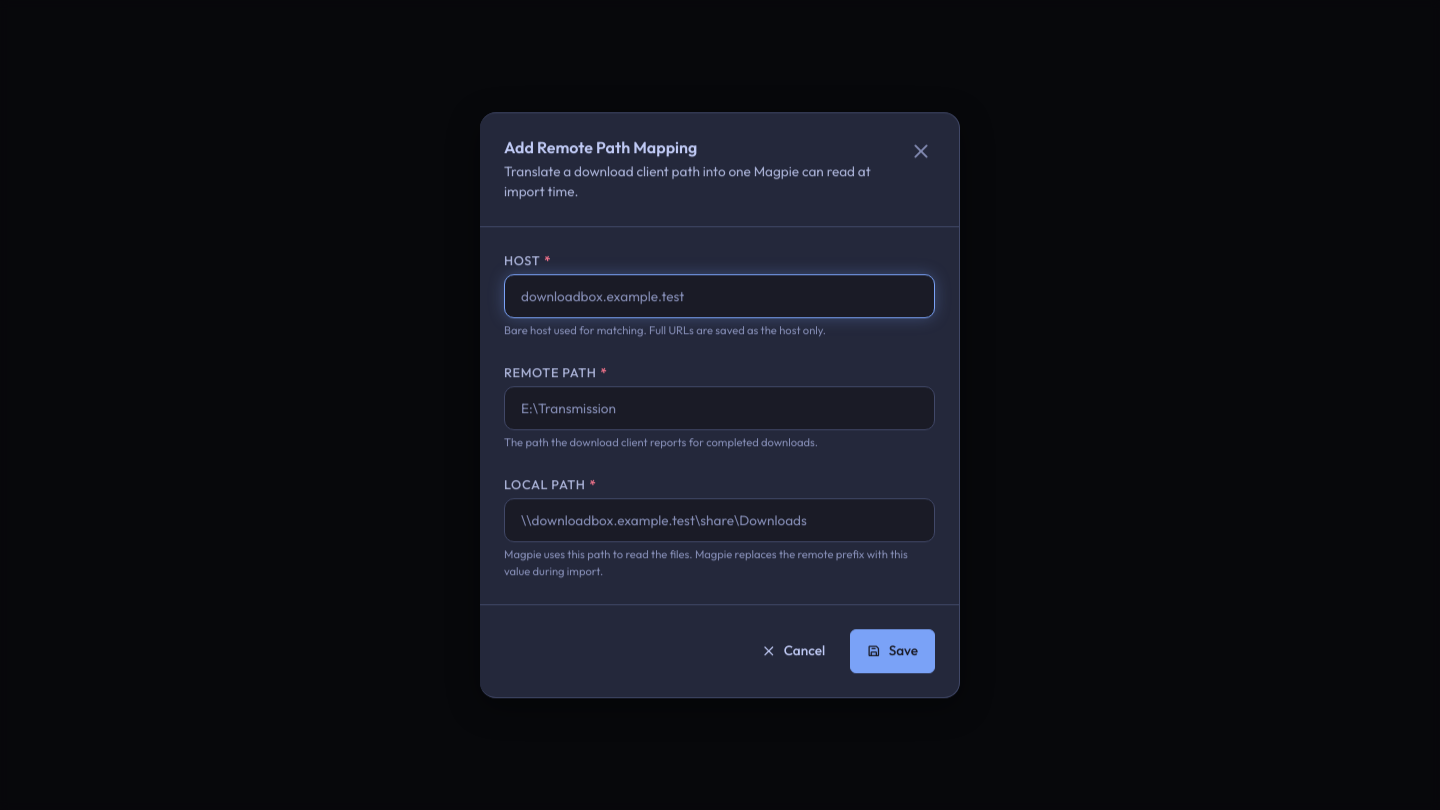
it: RemotePathMappingForm › shows a validation error when a url has no host
Type "http://" into the field labelled "Host *" at (720, 296), box top-left (505, 278), bottom-right (934, 314)
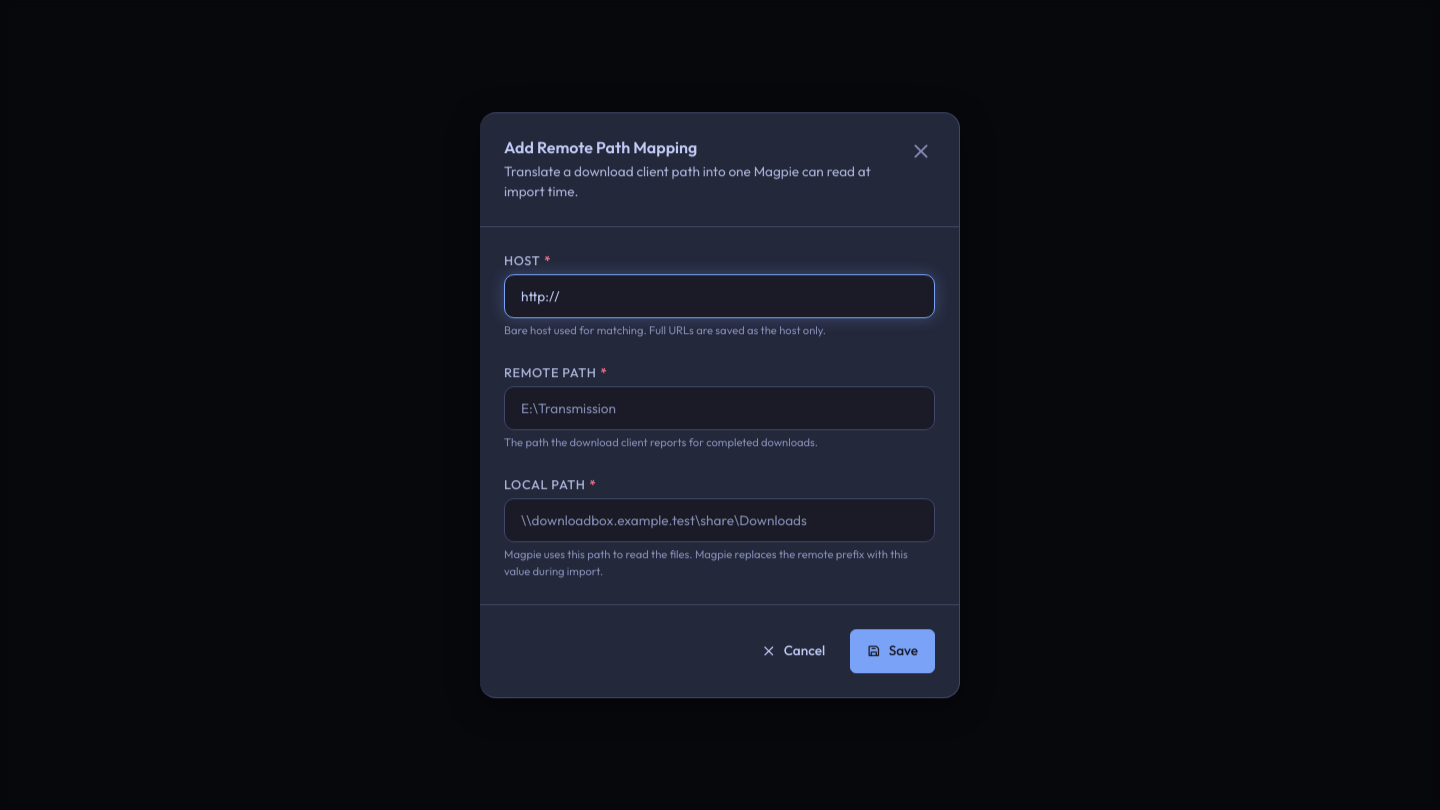
Type "/volume1/torrents" into the field labelled "Remote Path *" at (720, 408), box top-left (505, 390), bottom-right (934, 426)
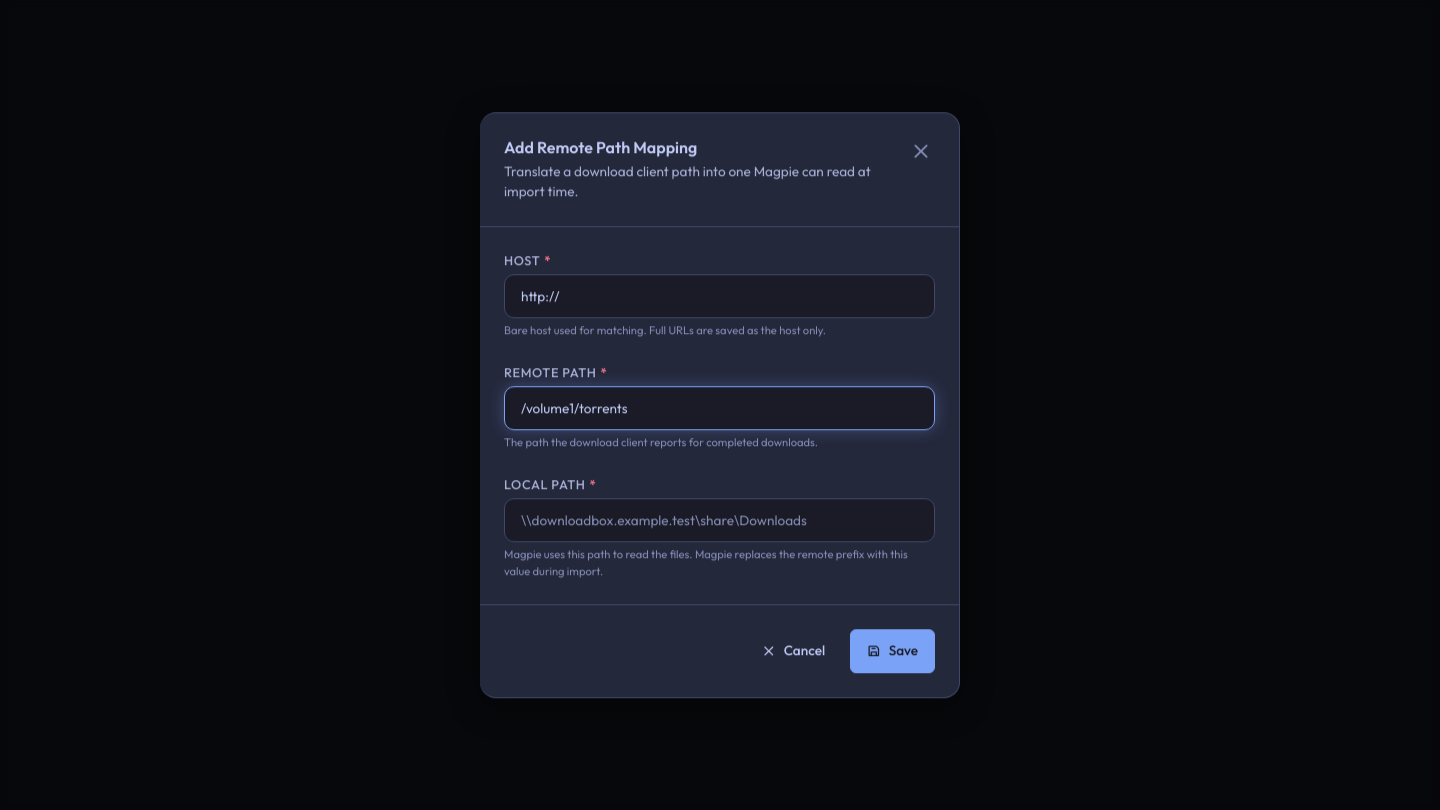
Type "/media/torrents" into the field labelled "Local Path *" at (720, 520), box top-left (505, 502), bottom-right (934, 538)
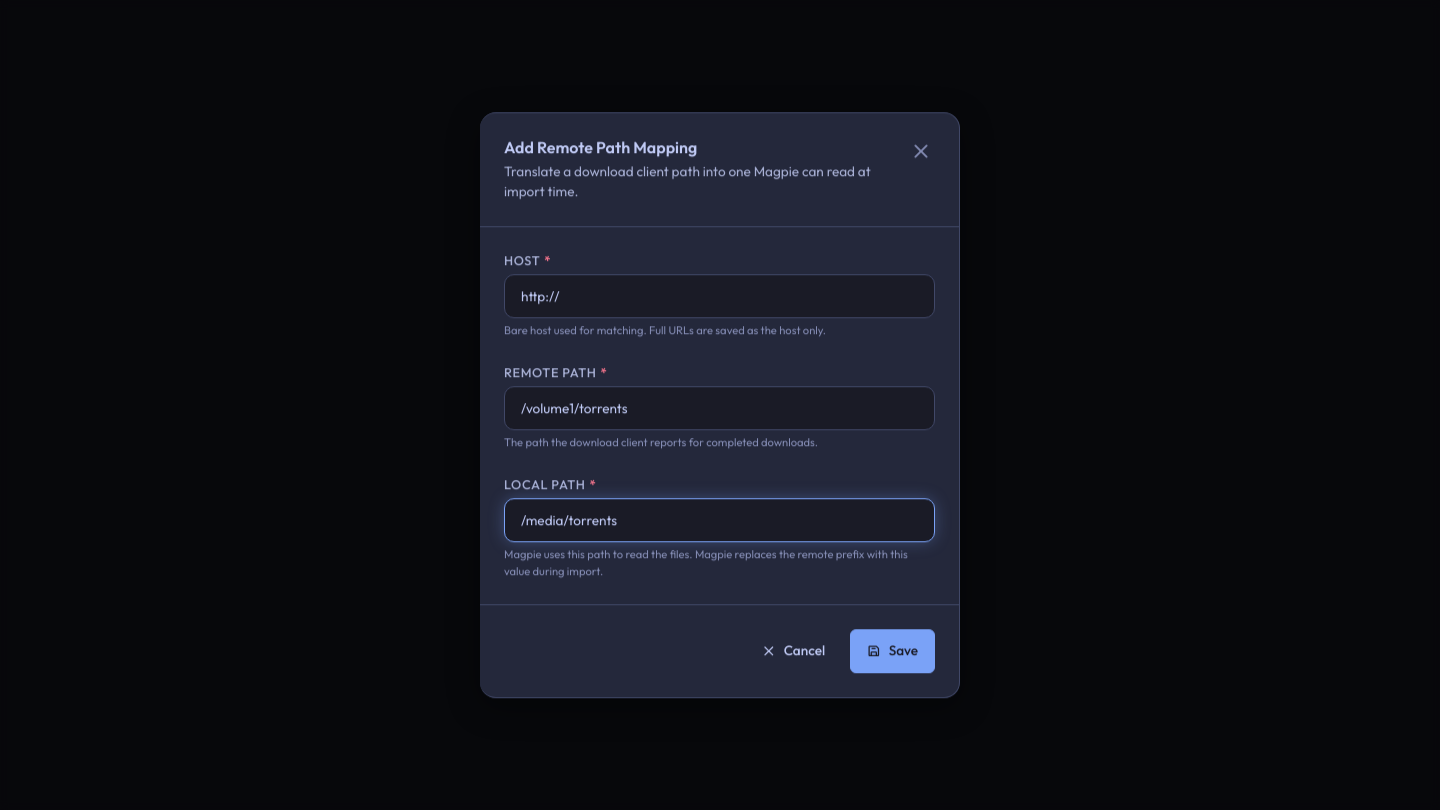
Click the button "Save" at (893, 651), box top-left (850, 629), bottom-right (935, 673)
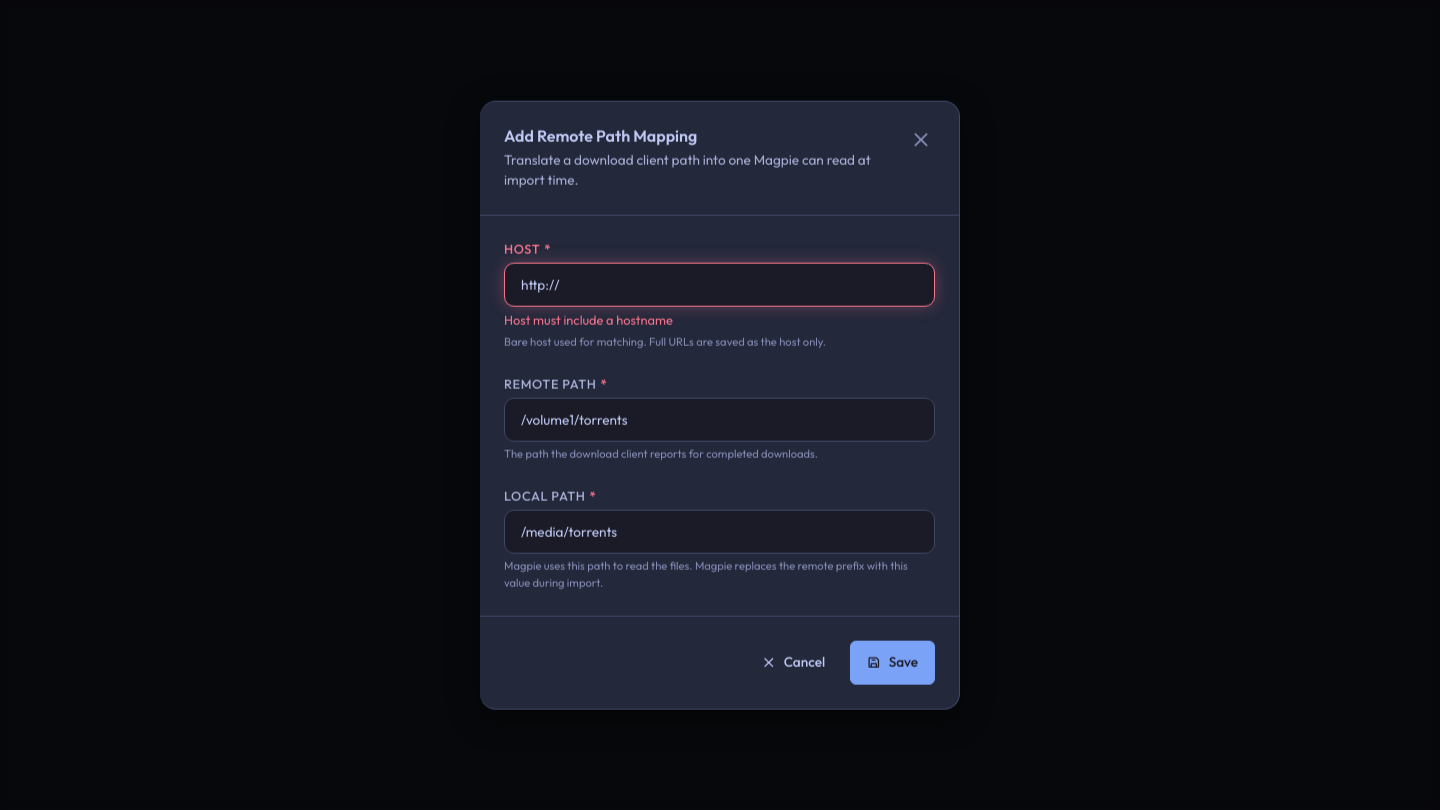
Expected: the text "Host must include a hostname" is shown, top-left (504, 312), bottom-right (673, 328)
